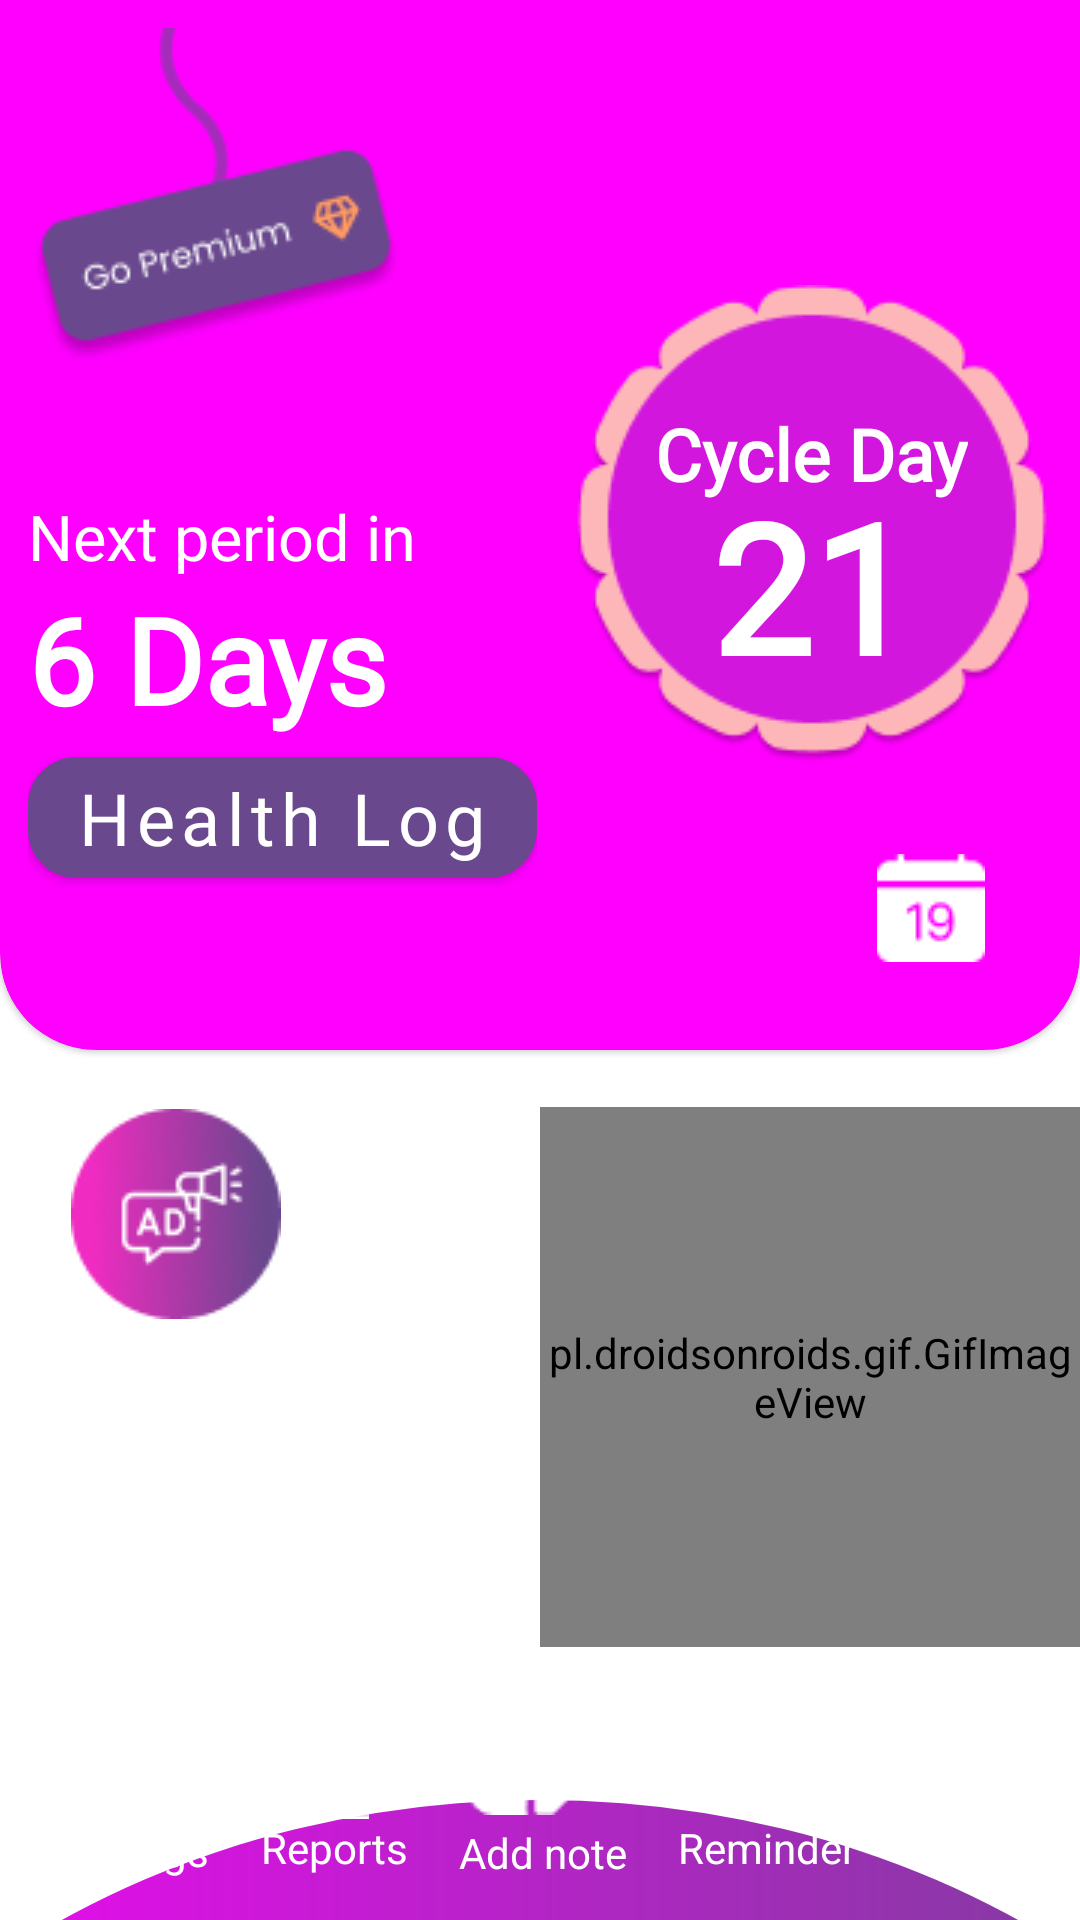

Where icons sit on this 1080*1920 app screen, as (x1, y1, x2, y2):
calendar: (877, 854, 985, 962)
